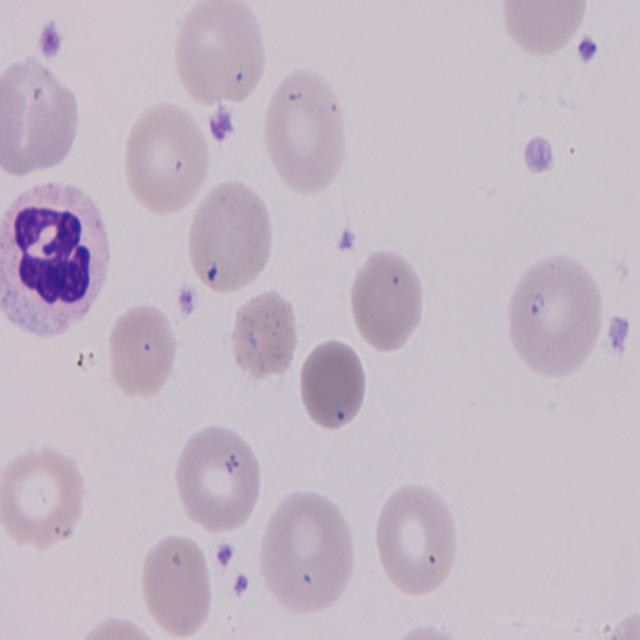RBC: (257, 486, 361, 616), (504, 249, 606, 379), (258, 66, 348, 198), (2, 44, 86, 185), (172, 418, 262, 538), (372, 480, 461, 600), (220, 280, 304, 404), (186, 178, 274, 296), (122, 100, 210, 216), (0, 440, 88, 554), (174, 0, 265, 109), (139, 526, 219, 636), (349, 249, 425, 357), (104, 303, 178, 406), (497, 0, 591, 58)
Spherocyte: (296, 335, 366, 433)
